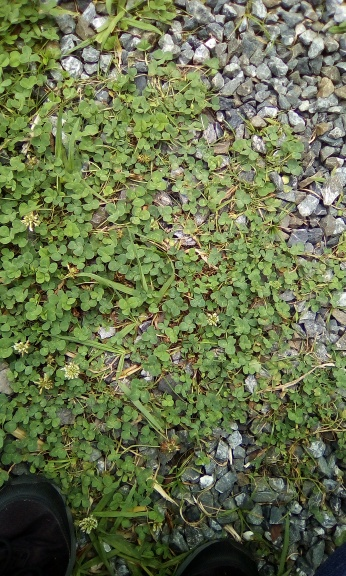4leaf: (165, 296, 188, 317)
